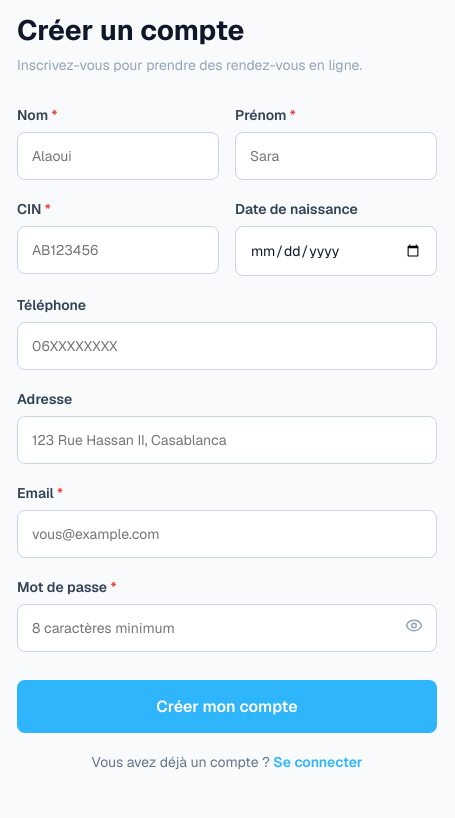
it: auth pages › should validate register form when required fields are missing
Click the button "Créer mon compte": click(227, 706) [17,680,437,733]
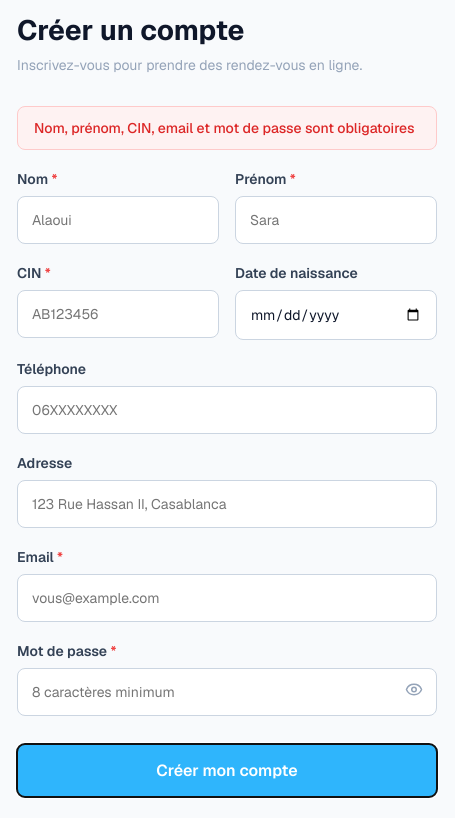
Result: the text "Nom, prénom, CIN, email et mot de passe sont obligatoires" is shown at [17,106,437,150]
